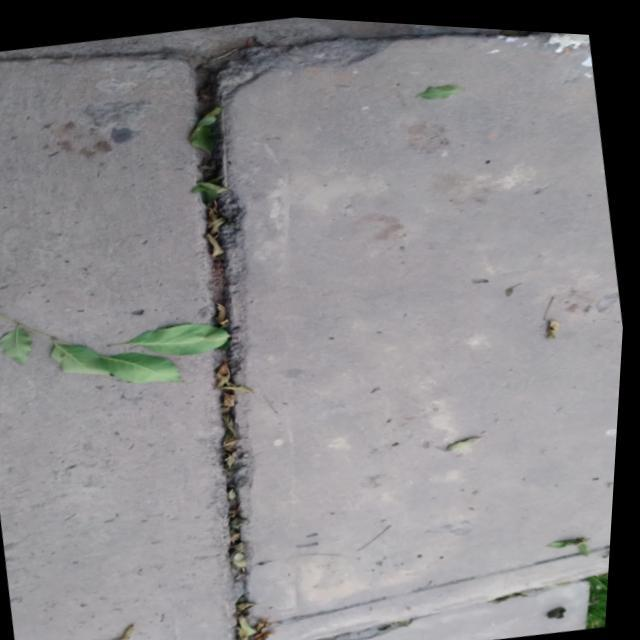hole: (131, 31, 281, 319)
